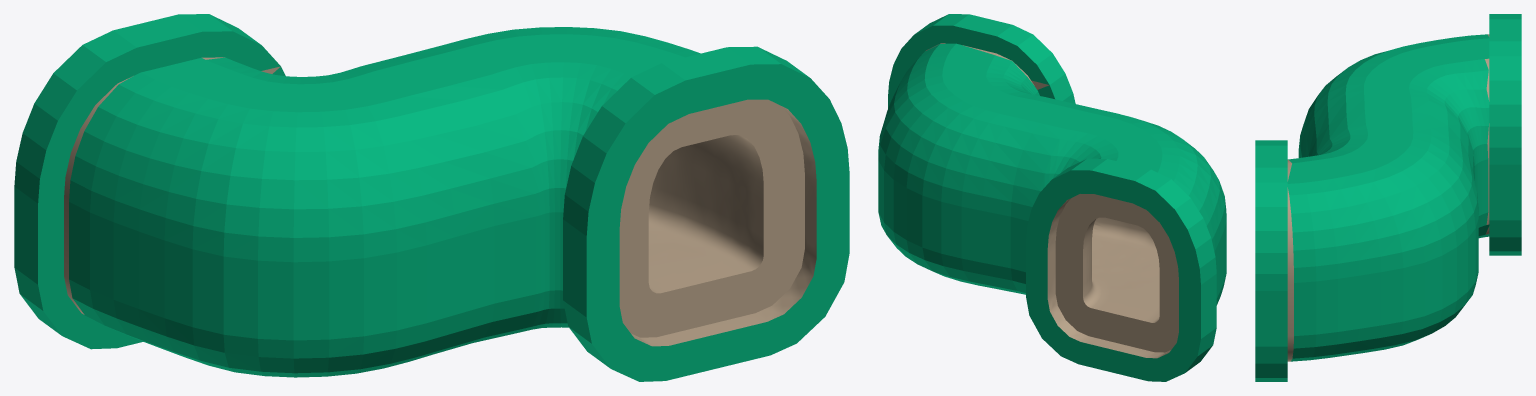
The model's file is TT_C_Dogleg_L.fbx.
3 views of the same model, side by side, from view 1: azimuth 30°, elevation 25°; view 2: azimuth 150°, elevation 25°; view 3: azimuth 270°, elevation 25° (orthographic). The views are drawn at different scales.
Parts seen in each view (by area): view 1: TT_C_Dogleg_L_LOD0; view 2: TT_C_Dogleg_L_LOD0; view 3: TT_C_Dogleg_L_LOD0.
Part boxes in pixels (x1,y1,x2,y2): TT_C_Dogleg_L_LOD0: (14,14,849,381); TT_C_Dogleg_L_LOD0: (878,14,1226,381); TT_C_Dogleg_L_LOD0: (1255,14,1521,381).
Size of the model in its own units: 780 by 344 by 410.
